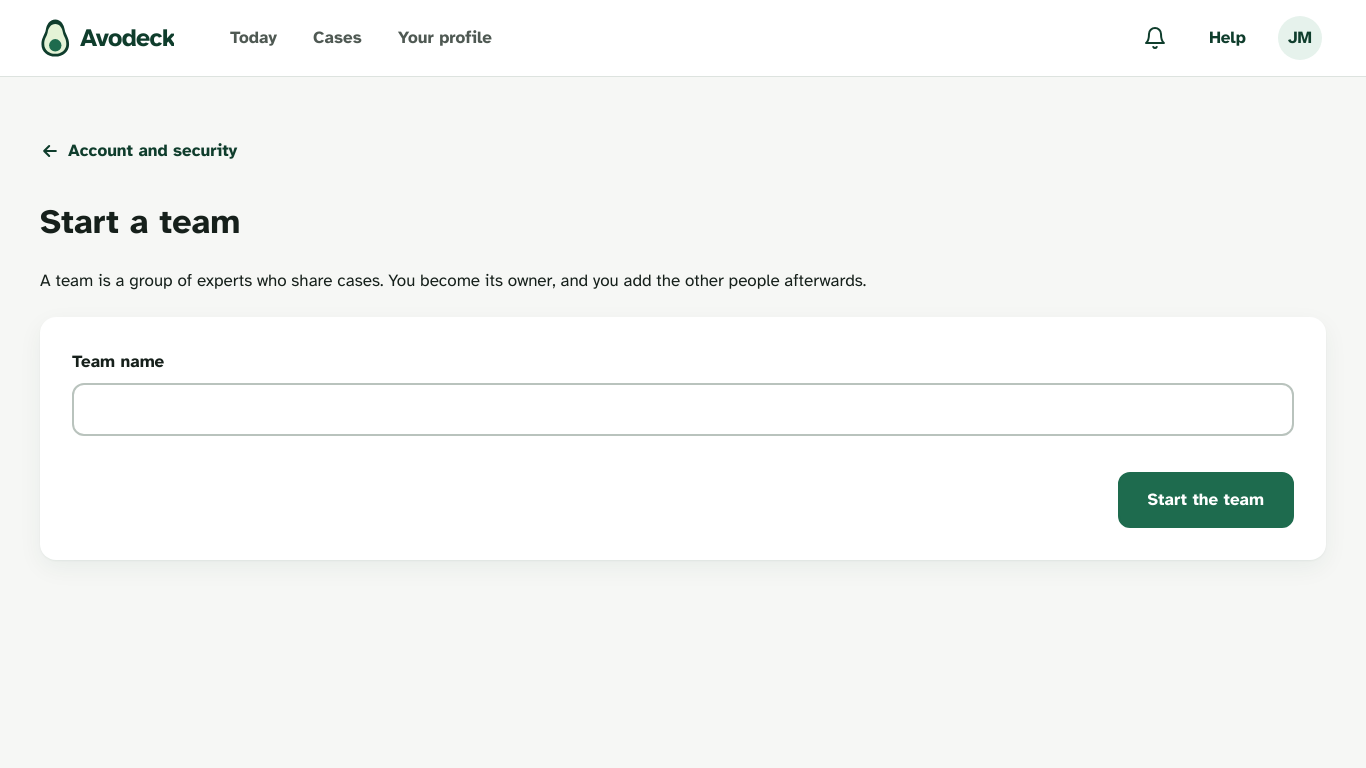
a server refusal is shown in plain words and the person stays
The image size is (1366, 768).
In the field labelled "Team name": (683, 409) [72,382,1294,436], type "Northgate"
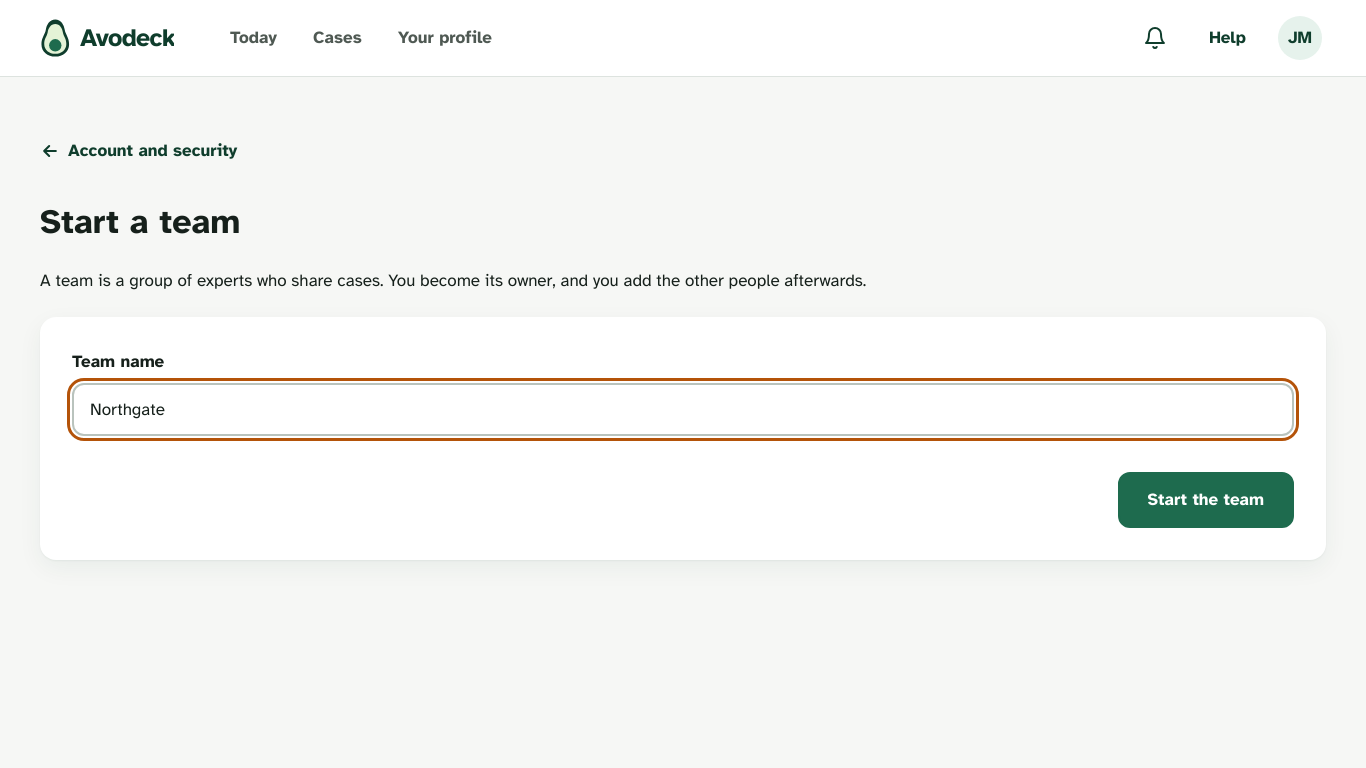
Click the button "Start the team": (1206, 500) [1118,472,1294,528]
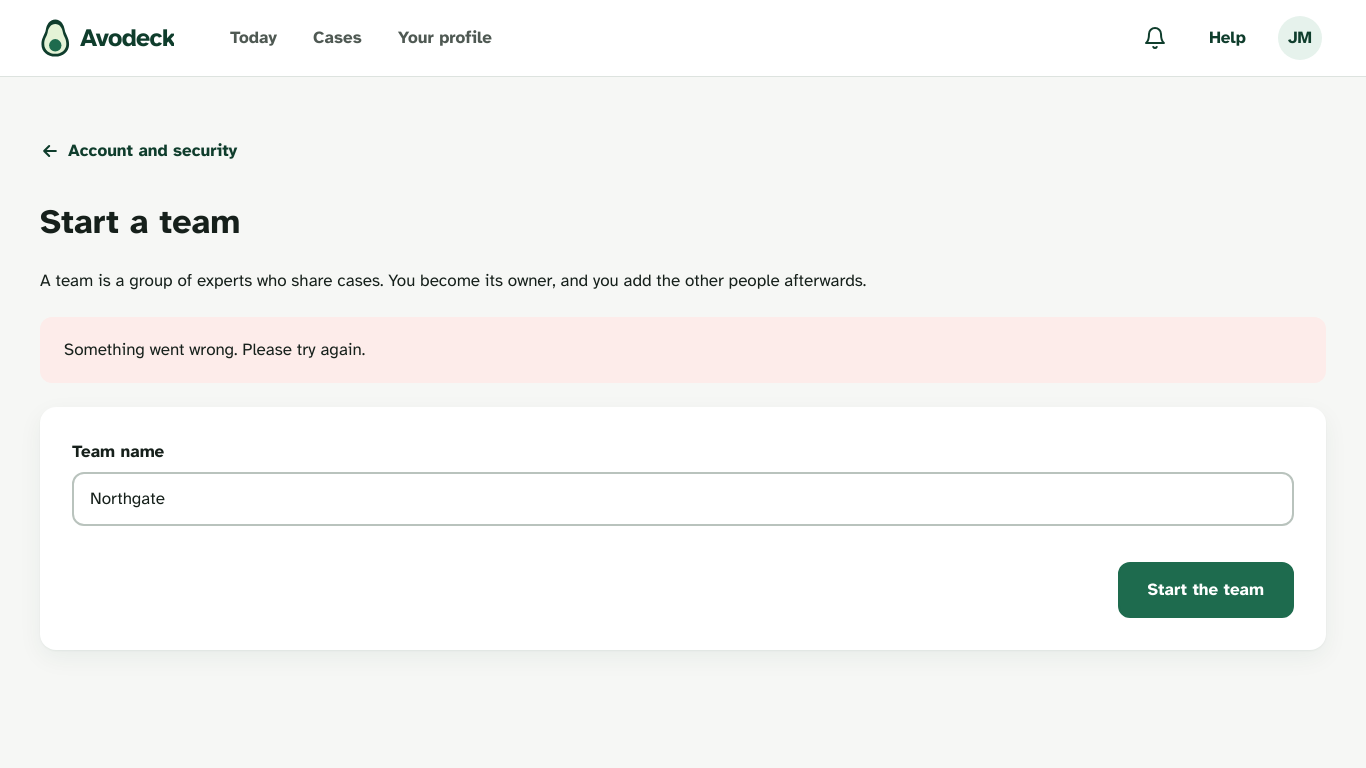
Now the message "Something went wrong. Please try again." is shown, box [40,317,1326,382]
